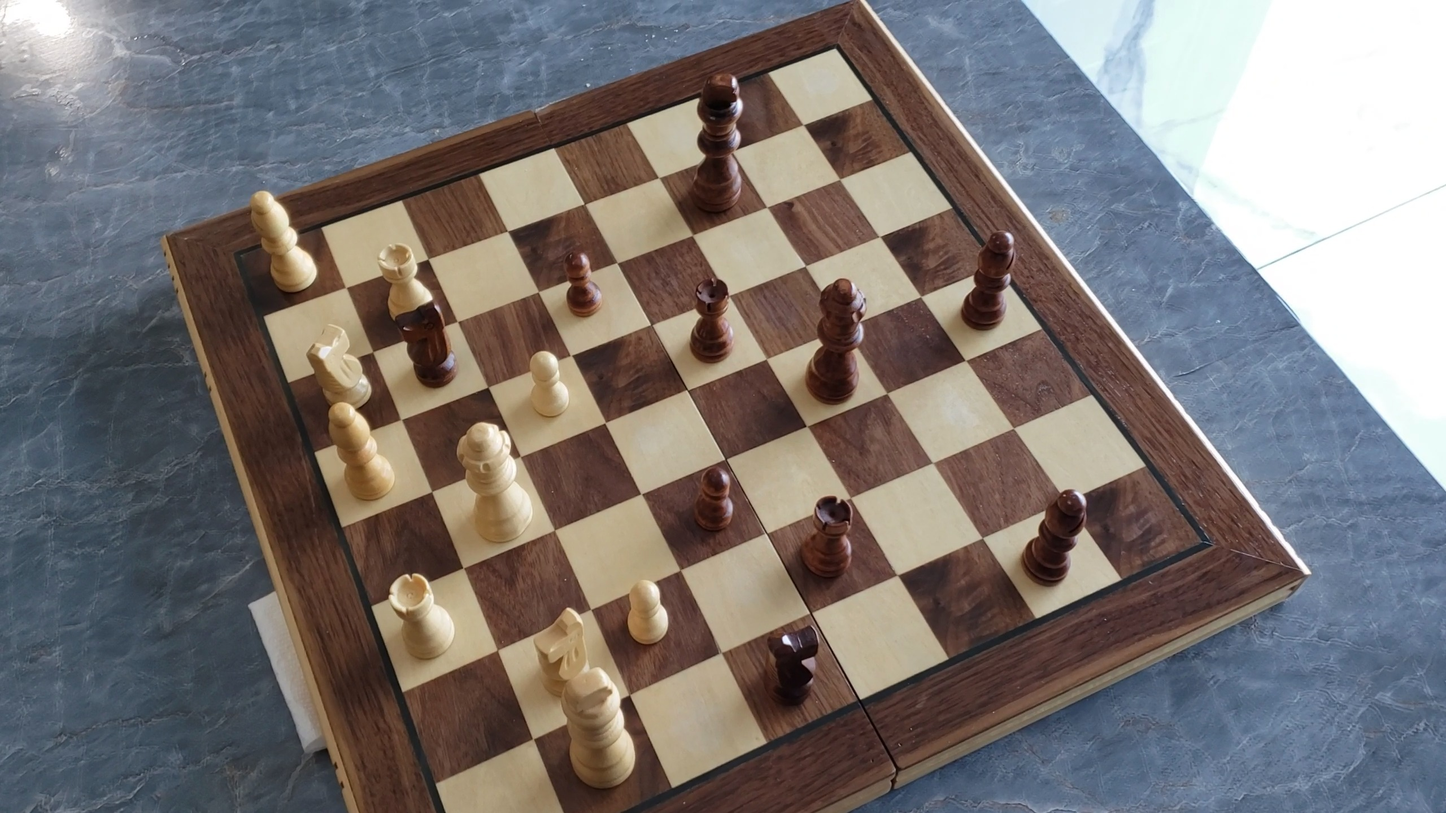black-bishop: (1018, 485, 1091, 588), (961, 226, 1017, 340)
black-king: (685, 65, 747, 216)
black-knight: (760, 621, 830, 706), (396, 299, 460, 388)
black-pawn: (690, 461, 737, 535), (560, 244, 603, 321)
black-queen: (801, 277, 874, 405)
black-rook: (798, 492, 856, 582), (687, 273, 735, 365)
white-bishop: (245, 186, 321, 298), (323, 401, 400, 504)
white-king: (555, 668, 645, 796)
white-knight: (304, 321, 375, 412), (532, 602, 593, 698)
white-pawn: (621, 572, 674, 650), (522, 346, 574, 422)
white-queen: (449, 414, 542, 544)
white-rook: (385, 569, 459, 663), (376, 240, 437, 327)
